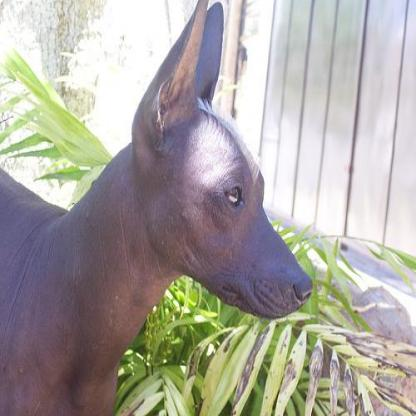Mexican_hairless: (0, 0, 310, 414)
